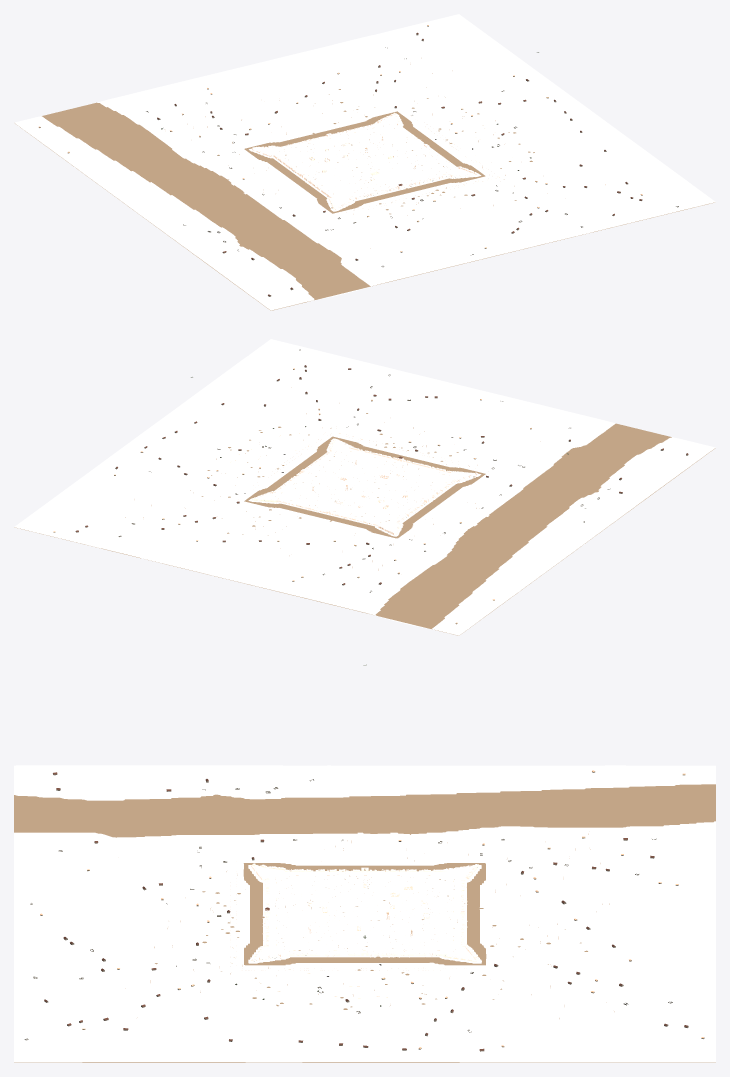
Rendered from static.glb.
3 views of the same model, one above another, from view 1: azimuth 30°, elevation 25°; view 2: azimuth 150°, elevation 25°; view 3: azimuth 270°, elevation 25° (orthographic). The views are drawn at different scales.
Parts seen in each view (by area): view 1: DiaHinh_ChienTruong, MatNuoc_Song_Hao, HoBom_VienDat_GD5, TuongThanh_Vo_GD4, NhaDan_1972; view 2: DiaHinh_ChienTruong, MatNuoc_Song_Hao, HoBom_VienDat_GD5, TuongThanh_Vo_GD4, NhaDan_1972; view 3: DiaHinh_ChienTruong, MatNuoc_Song_Hao, HoBom_VienDat_GD5, TuongThanh_Vo_GD4, NhaDan_1972.
Boxes of the visible parts, x1=… form: DiaHinh_ChienTruong: x1=14, y1=14, x2=715, y2=310; MatNuoc_Song_Hao: x1=15, y1=89, x2=714, y2=310; HoBom_VienDat_GD5: x1=281, y1=87, x2=539, y2=215; TuongThanh_Vo_GD4: x1=252, y1=112, x2=477, y2=209; NhaDan_1972: x1=38, y1=25, x2=678, y2=296; DiaHinh_ChienTruong: x1=14, y1=339, x2=715, y2=635; MatNuoc_Song_Hao: x1=14, y1=413, x2=715, y2=635; HoBom_VienDat_GD5: x1=186, y1=411, x2=461, y2=536; TuongThanh_Vo_GD4: x1=252, y1=438, x2=477, y2=534; NhaDan_1972: x1=53, y1=349, x2=688, y2=624; DiaHinh_ChienTruong: x1=14, y1=765, x2=715, y2=1062; MatNuoc_Song_Hao: x1=14, y1=784, x2=715, y2=1062; HoBom_VienDat_GD5: x1=150, y1=873, x2=592, y2=1011; TuongThanh_Vo_GD4: x1=251, y1=863, x2=478, y2=961; NhaDan_1972: x1=24, y1=770, x2=704, y2=1051.
Size of what is drawn, in the model's own units: 1800 by 331 by 1800.
